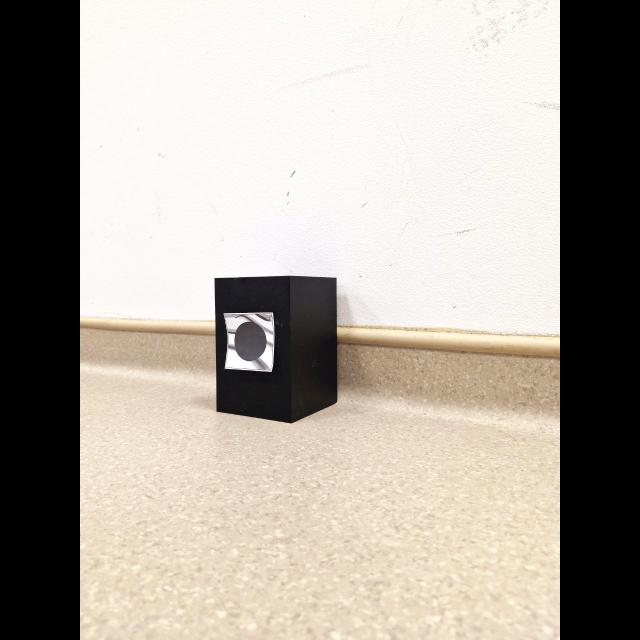CIRCLE: (234, 321, 267, 362)
